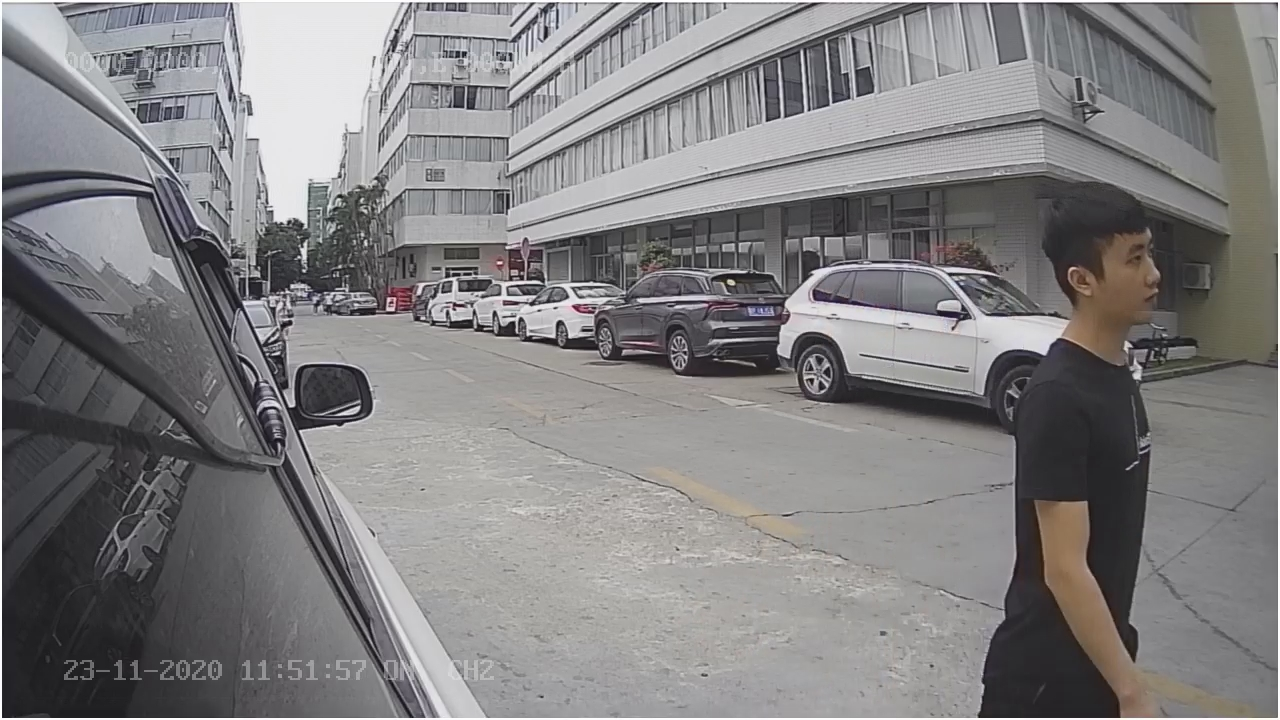person: (1002, 176, 1192, 581)
